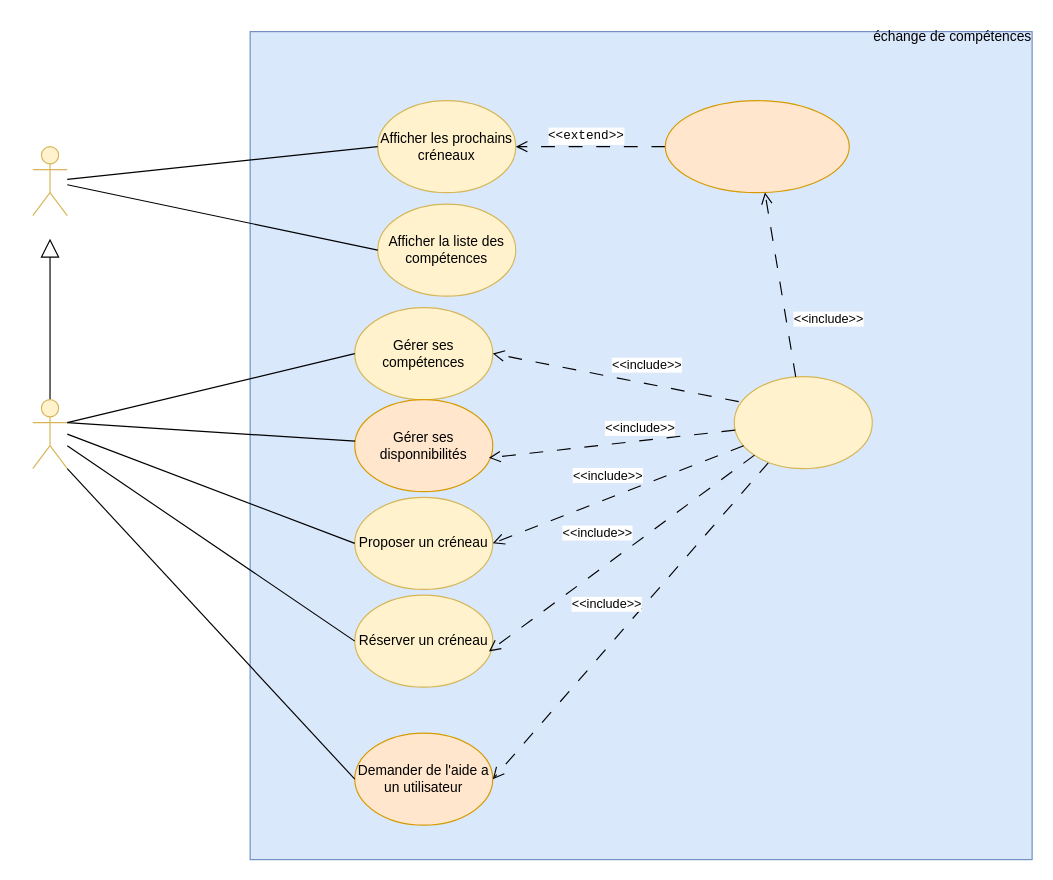
The diagram is 1053 pixels wide and 880 high, and some of its shapes have lost their labels. The shapes that lost their labels are listed below. From the top down, each one's centre as x and y in pixels, then its label:
At pixel 756 146: "Filtrer les créneaux où il a indiqué être disponible".
At pixel 49 180: "Visiteur".
At pixel 49 433: "Utilisateur".
At pixel 802 422: "S'authentifier".
